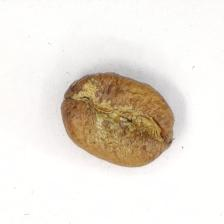NG: (68, 73, 165, 160)
